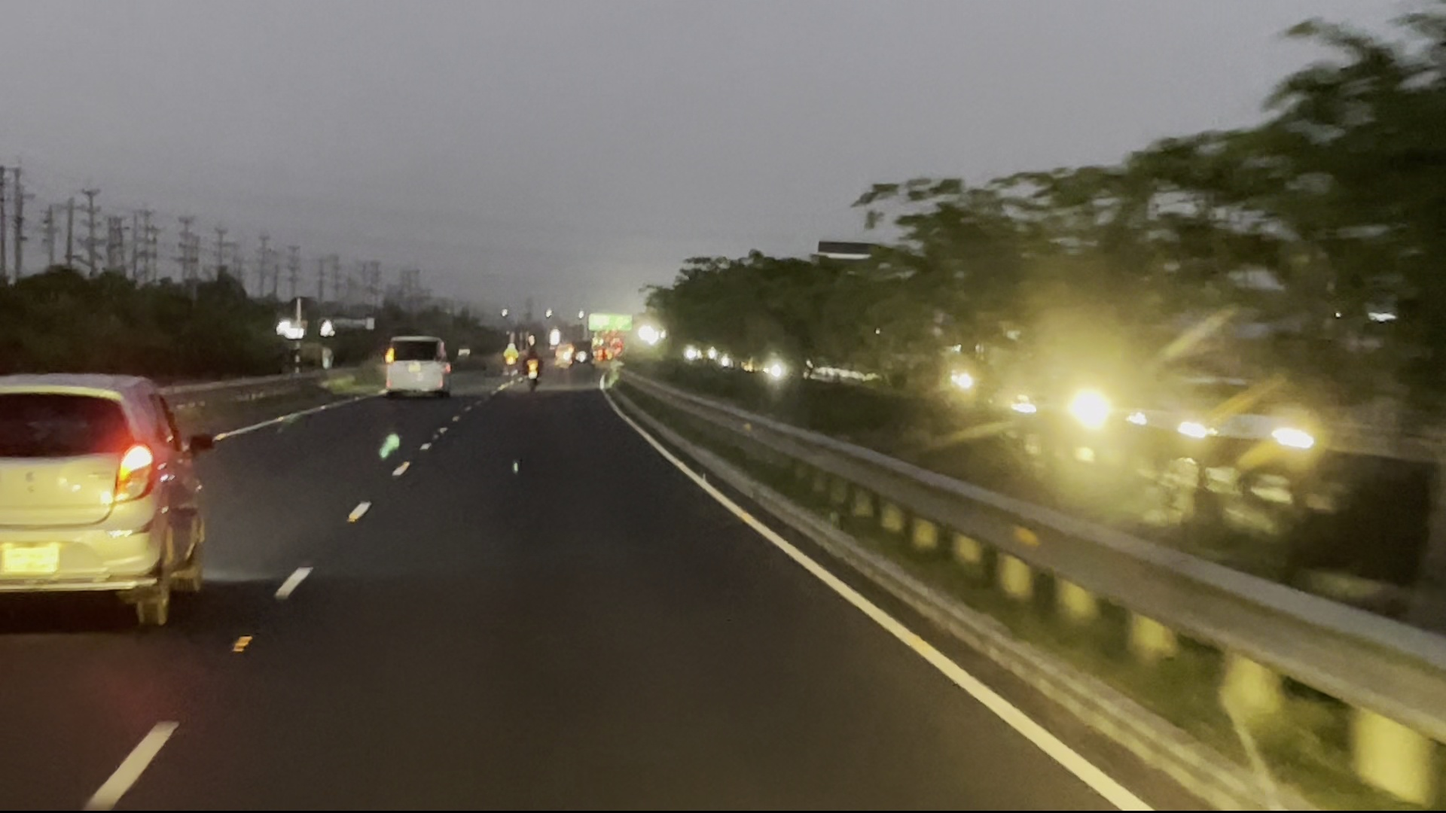car: (3, 367, 218, 630), (382, 332, 454, 403)
motorbike: (521, 343, 546, 391), (502, 340, 520, 381)
